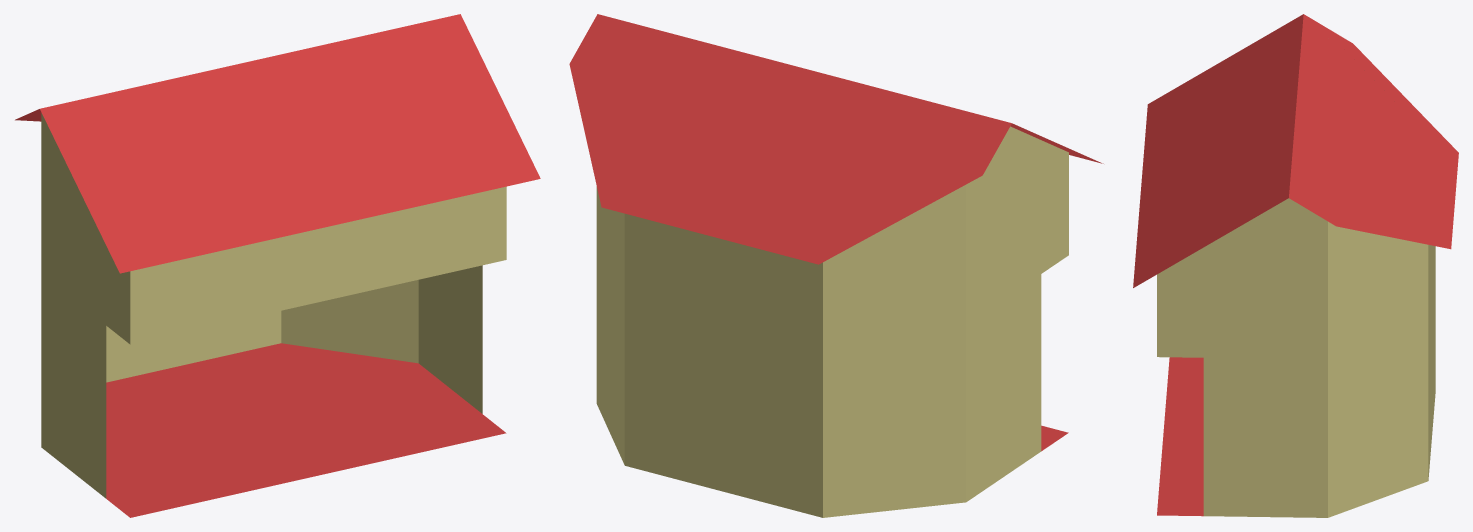
3 views of the same model, side by side, from view 1: azimuth 30°, elevation 25°; view 2: azimuth 150°, elevation 25°; view 3: azimuth 270°, elevation 25° (orthographic). The views are drawn at different scales.
Size of the model in its own units: 14.39 by 10.59 by 11.8.
